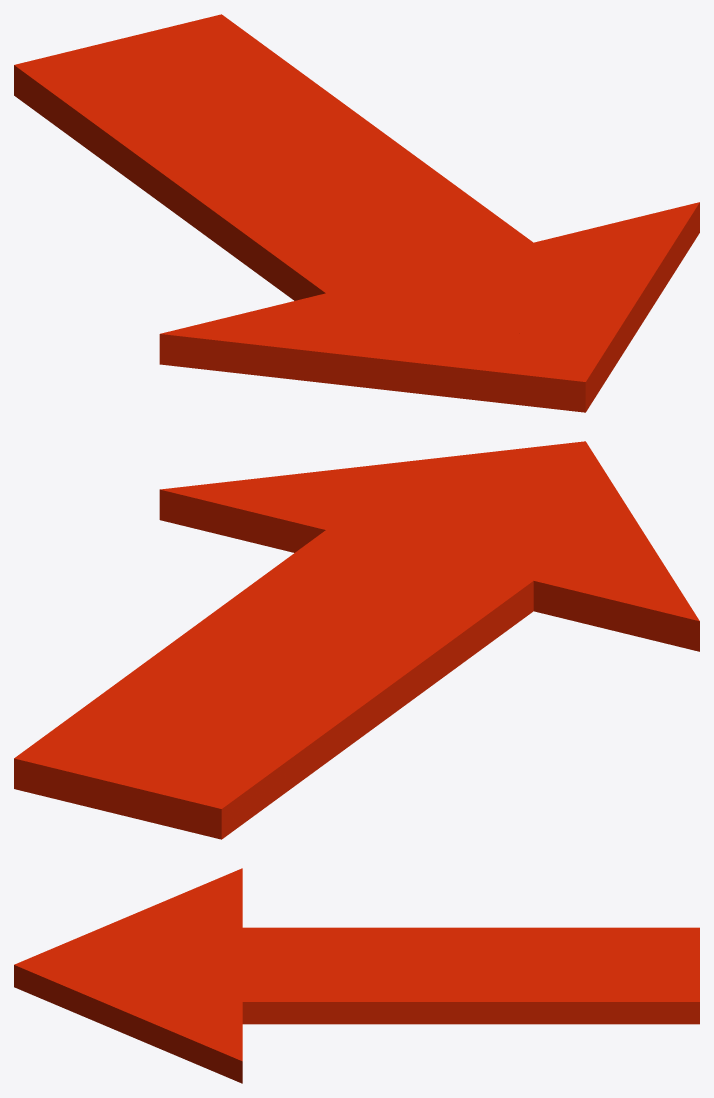
The model's file is Flecha.glb.
3 renders of one model, top to bottom at view 1: azimuth 30°, elevation 25°; view 2: azimuth 150°, elevation 25°; view 3: azimuth 270°, elevation 25°, orthographic. The views are drawn at different scales.
Parts seen in each view (by area): view 1: Plane.001; view 2: Plane.001; view 3: Plane.001.
Part boxes in pixels (x1,y1,x2,y2): Plane.001: [14, 14, 699, 412]; Plane.001: [14, 441, 699, 839]; Plane.001: [14, 868, 699, 1083].
Bounding box in the file's own units: 2 × 0.1082 × 3.
